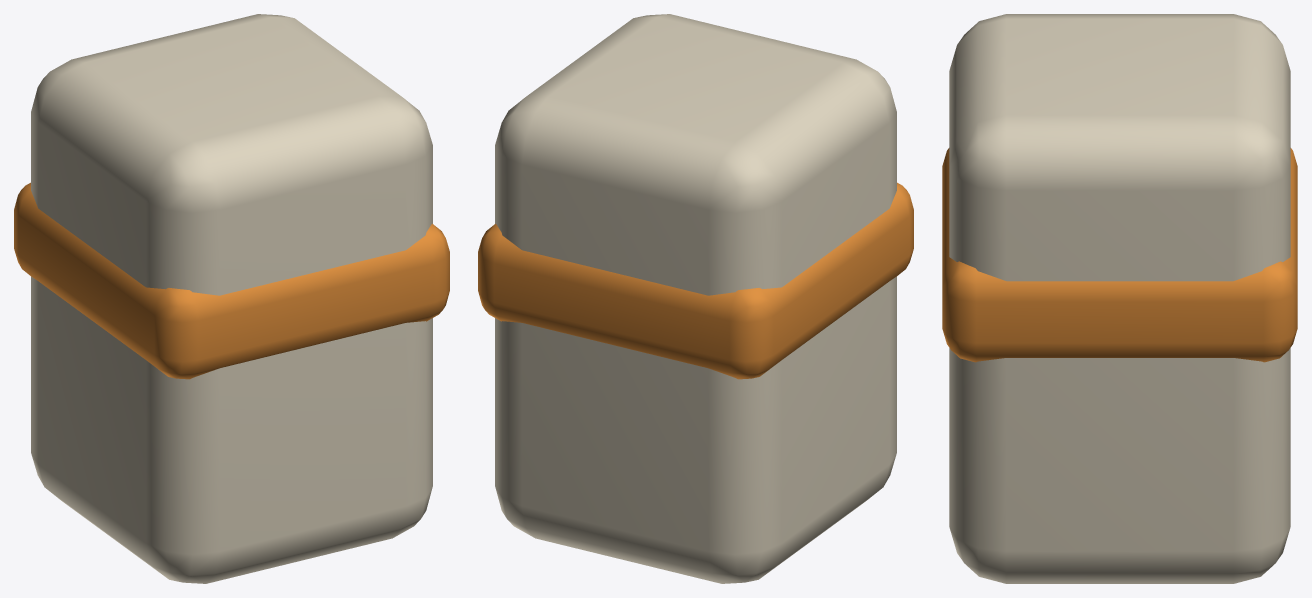
File: deck-corner-cap.glb
The picture shows the model from 3 angles, left to right: view 1: azimuth 30°, elevation 25°; view 2: azimuth 150°, elevation 25°; view 3: azimuth 270°, elevation 25°; orthographic projection. The views are drawn at different scales.
Parts seen in each view (by area): view 1: deck-corner-cap / 01 • warm porcelain paint, deck-corner-cap / 03 • ochre enamel; view 2: deck-corner-cap / 01 • warm porcelain paint, deck-corner-cap / 03 • ochre enamel; view 3: deck-corner-cap / 01 • warm porcelain paint, deck-corner-cap / 03 • ochre enamel.
Part boxes in pixels (x1,y1,x2,y2): deck-corner-cap / 01 • warm porcelain paint: (31, 14, 432, 583); deck-corner-cap / 03 • ochre enamel: (14, 182, 449, 379); deck-corner-cap / 01 • warm porcelain paint: (495, 14, 896, 583); deck-corner-cap / 03 • ochre enamel: (478, 182, 913, 379); deck-corner-cap / 01 • warm porcelain paint: (949, 14, 1290, 583); deck-corner-cap / 03 • ochre enamel: (942, 148, 1297, 362).
Bounding box in the file's own units: 0.125 × 0.18 × 0.125.
